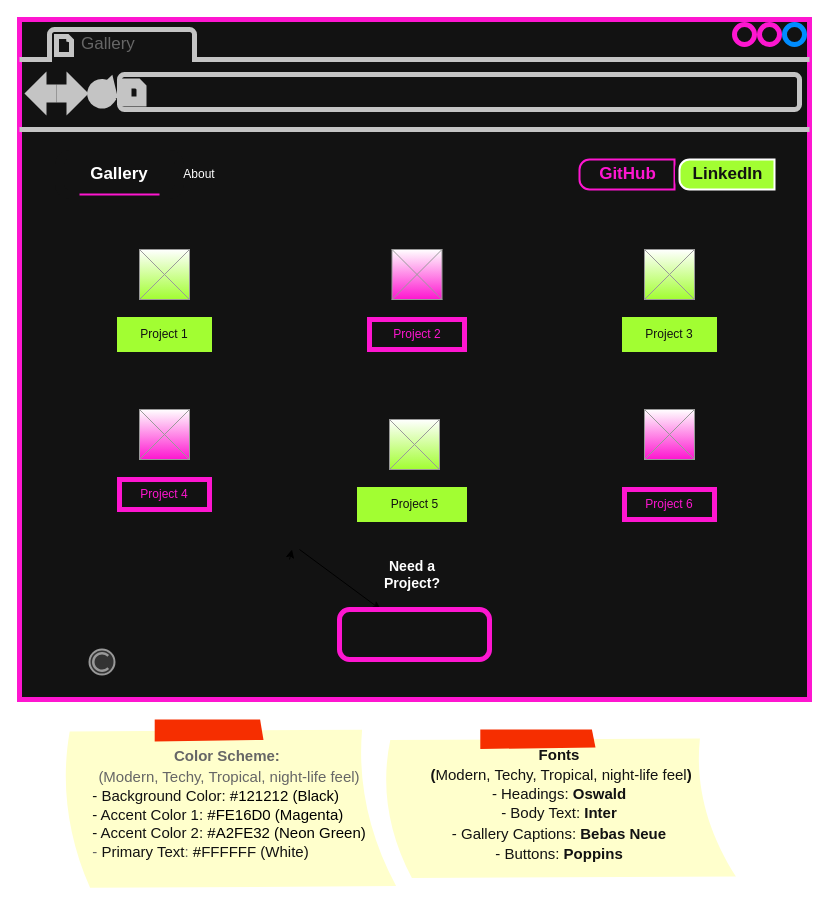
Image size: 829x907. Some labels were removed from this diagram. The shapes that lost their labels are listed below. From the top down, each one's centre as x and y in pixels, then its label:
the point at 274,92: https://www.draw.io
the point at 414,634: Contact
